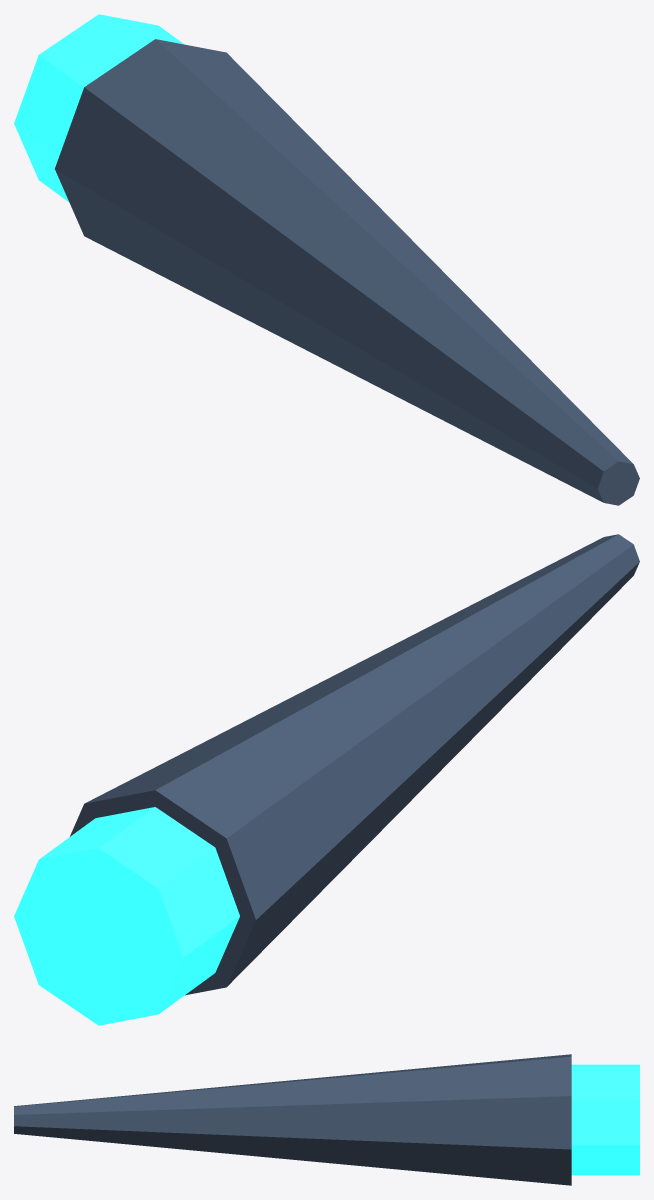
Rendered from bullet.glb.
3 renders of one model, top to bottom at view 1: azimuth 30°, elevation 25°; view 2: azimuth 150°, elevation 25°; view 3: azimuth 270°, elevation 25°, orthographic. The views are drawn at different scales.
Visible parts, largest first — view 1: bullet; view 2: bullet; view 3: bullet.
Part boxes in pixels (<box>): bullet: <box>14,14,639,505</box>; bullet: <box>14,534,639,1025</box>; bullet: <box>14,1054,639,1185</box>.
Size of the model in its own units: 0.38 by 0.38 by 1.7.
